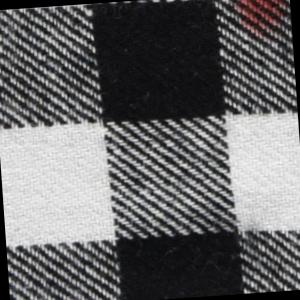Stain: (230, 1, 293, 42)
